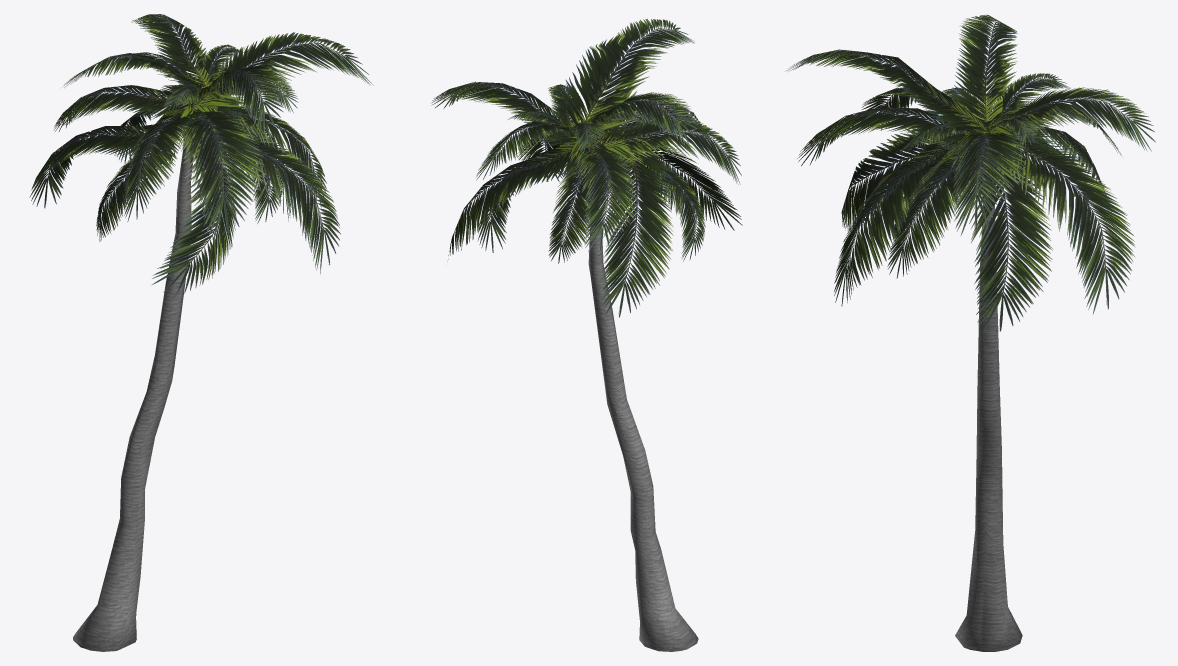
File: palmeira.glb
3 renders of one model, left to right at view 1: azimuth 30°, elevation 25°; view 2: azimuth 150°, elevation 25°; view 3: azimuth 270°, elevation 25°, orthographic. The views are drawn at different scales.
Visible parts, largest first — view 1: Cylinder.001_Material.002_0, Cylinder.001_Material.001_0; view 2: Cylinder.001_Material.002_0, Cylinder.001_Material.001_0; view 3: Cylinder.001_Material.002_0, Cylinder.001_Material.001_0.
Boxes of the visible parts, left/top/right/bottom form: Cylinder.001_Material.002_0: left=29, top=14, right=373, bottom=293; Cylinder.001_Material.001_0: left=73, top=106, right=204, bottom=651; Cylinder.001_Material.002_0: left=431, top=19, right=742, bottom=317; Cylinder.001_Material.001_0: left=588, top=142, right=698, bottom=651; Cylinder.001_Material.002_0: left=786, top=14, right=1155, bottom=331; Cylinder.001_Material.001_0: left=955, top=159, right=1022, bottom=651.
Size of the model in its own units: 2.57 by 4.5 by 2.47.
Materials: 2 (2 with a texture image).
